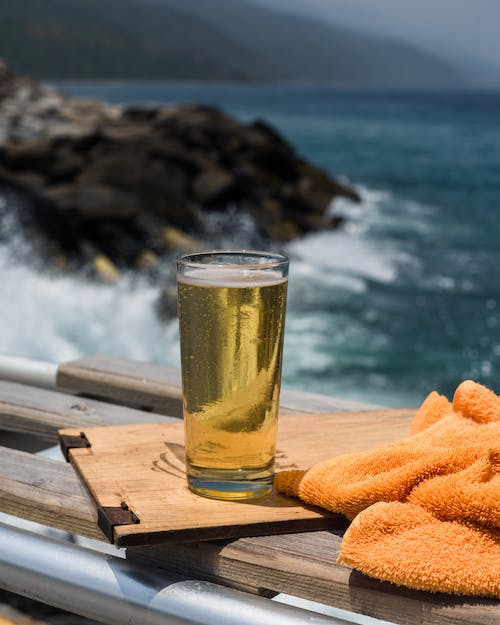alcohol: (174, 248, 291, 502)
